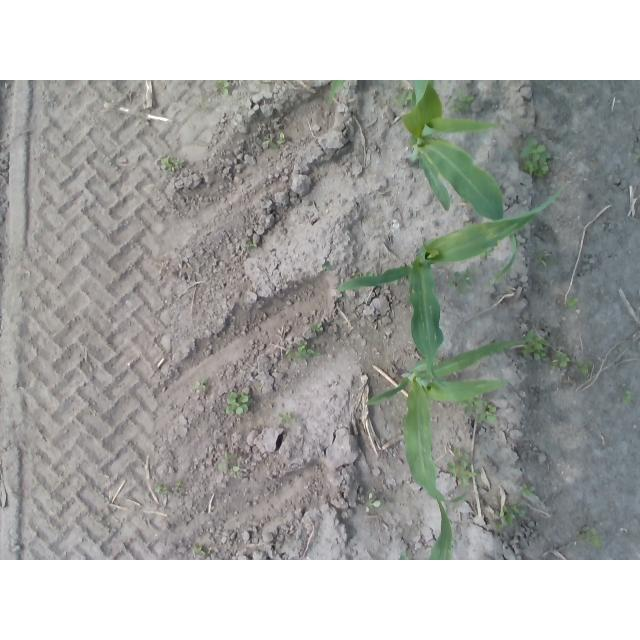Maize: (333, 182, 567, 387), (329, 80, 520, 281), (364, 339, 506, 501), (399, 498, 454, 560)
Weeds: (521, 138, 551, 178), (524, 330, 548, 360), (447, 463, 477, 486), (227, 394, 250, 414), (449, 95, 474, 113), (287, 348, 317, 361), (455, 269, 474, 287), (501, 506, 516, 526), (580, 527, 596, 545), (366, 493, 381, 512), (454, 448, 470, 465), (553, 352, 570, 368), (464, 400, 483, 413), (163, 157, 182, 169), (263, 135, 277, 149), (479, 411, 495, 423), (394, 90, 404, 107), (216, 80, 229, 93), (521, 485, 536, 496), (219, 454, 229, 470), (578, 362, 590, 375), (309, 323, 325, 332), (512, 505, 524, 516), (540, 252, 550, 265), (195, 378, 205, 391), (194, 546, 205, 557), (299, 340, 309, 352), (278, 132, 287, 145), (280, 413, 292, 422), (570, 300, 581, 309), (624, 391, 633, 402), (321, 262, 331, 271), (174, 480, 183, 489), (156, 485, 165, 494), (445, 280, 455, 287), (495, 520, 502, 530), (233, 466, 240, 475), (245, 241, 255, 247)
